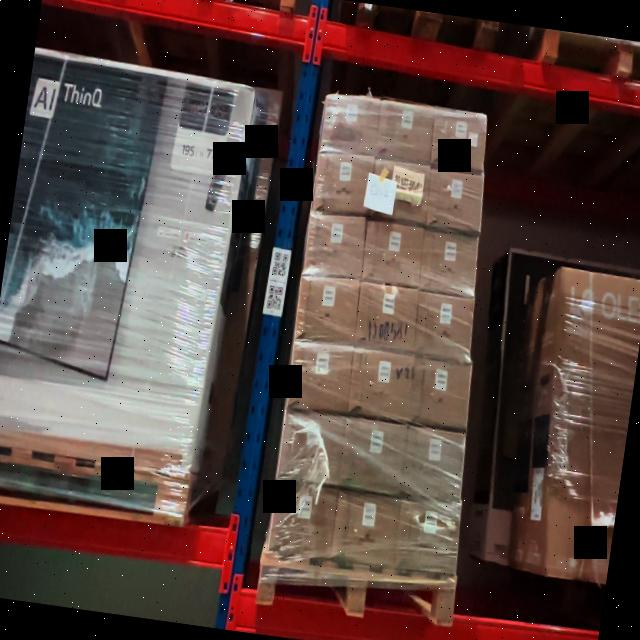box: (266, 482, 338, 560), (329, 491, 399, 569), (339, 416, 406, 494), (347, 348, 415, 421), (276, 412, 346, 482), (408, 356, 472, 432), (354, 284, 422, 353), (287, 341, 353, 412), (402, 426, 466, 499), (394, 502, 460, 572), (304, 212, 368, 278), (362, 218, 424, 286), (296, 278, 360, 342), (428, 106, 488, 174), (416, 292, 476, 360), (375, 100, 436, 163), (419, 230, 479, 294), (368, 160, 429, 222), (425, 168, 485, 228), (320, 98, 380, 156), (312, 156, 372, 213)
